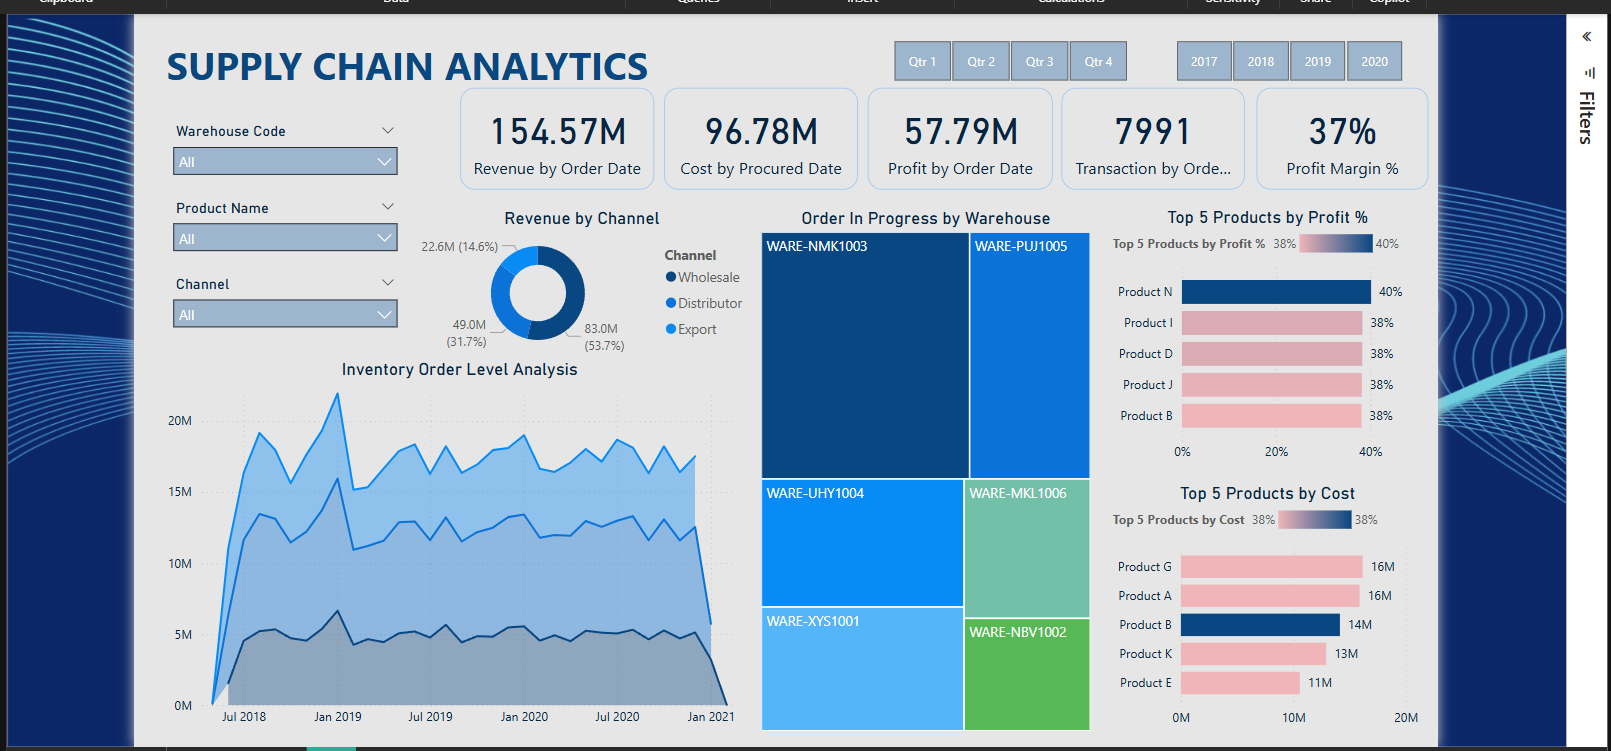

What the dashboard file says about the page in this screenshot:
{"tool":"powerbi","page":{"name":"Supply Chain ","canvas":[1280,720],"ordinal":0},"visuals":[{"type":"card","fields":{"Values":["Specific Calculation.Cost by Procured Date"]},"box":[520,72.9,190,100],"z":0},{"type":"slicer","fields":{"Values":["Dates.Year"]},"box":[998.1,20.2,271.2,52.3],"z":1000},{"type":"slicer","fields":{"Values":["Dates.Date.Variation.Date Hierarchy.Quarter"]},"box":[719.7,20.2,278.4,52.3],"z":2000},{"type":"card","fields":{"Values":["Specific Calculation.Revenue by Oder Date"]},"box":[320,72.9,190,100],"z":3000},{"type":"textbox","box":[27.4,20.2,523.4,61.9],"z":4000},{"type":"stackedAreaChart","title":"Inventory Order Level Analysis","fields":{"Category":["Dates.Date.Variation.Date Hierarchy.Year","Dates.Date.Variation.Date Hierarchy.Month"],"Y":["Specific Calculation.Revenue by Deliver Date","Specific Calculation.Inventory in Progress","Specific Calculation.Revenue by Order Date"]},"box":[28.6,338.6,582.9,370],"z":5000},{"type":"slicer","fields":{"Values":["Warehouse.Warehouse Code"]},"box":[27.7,101.3,240,71.2],"z":6000},{"type":"slicer","fields":{"Values":["Products.Product Name"]},"box":[27.7,177.3,240,68.7],"z":7000},{"type":"slicer","fields":{"Values":["Sales.Channel"]},"box":[27.7,252.1,240,68.7],"z":8000},{"type":"card","fields":{"Values":["Specific Calculation.Profit by Order Date"]},"box":[720,72.9,181.4,100],"z":9000},{"type":"card","fields":{"Values":["Specific Calculation.Profit Margin %"]},"box":[1101.4,72.9,168.6,100],"z":10000},{"type":"card","fields":{"Values":["Specific Calculation.Transaction by Order Date"]},"box":[910,72.9,180,100],"z":11000},{"type":"clusteredBarChart","title":"Top 5 Products by Profit %","fields":{"Y":["Specific Calculation.Top 5 Products by Profit %"],"Category":["Products.Product Name"]},"box":[955.8,189.3,313.8,259.4],"z":12000},{"type":"clusteredBarChart","title":"Top 5 Products by Cost","fields":{"Category":["Products.Product Name"],"Y":["Specific Calculation.Top 5 Products by Cost"]},"box":[955.8,460.4,313.8,249],"z":13000},{"type":"treemap","title":"Order In Progress by Warehouse","fields":{"Values":["Specific Calculation.Order In Progress"],"Group":["Warehouse.Warehouse Code"]},"box":[611.4,190,332.9,518.6],"z":14000},{"type":"donutChart","title":"Revenue by Channel","fields":{"Y":["Specific Calculation.Revenue by Order Date"],"Category":["Sales.Channel"]},"box":[267.1,190,344.3,148.6],"z":15000}]}

Visuals, with their boxes on the page's 1280x720 design canvas (x1, y1, x2, y2). These are canvas units, not pixel positions in the 1611x751 screenshot, which may show the page scaled, cropped or inside an application window:
card - Specific Calculation.Cost by Procured Date: x1=520 y1=73 x2=710 y2=173
slicer - Dates.Year: x1=998 y1=20 x2=1269 y2=72
slicer - Dates.Date.Variation.Date Hierarchy.Quarter: x1=720 y1=20 x2=998 y2=72
card - Specific Calculation.Revenue by Oder Date: x1=320 y1=73 x2=510 y2=173
textbox: x1=27 y1=20 x2=551 y2=82
"Inventory Order Level Analysis" stackedAreaChart: x1=29 y1=339 x2=612 y2=709
slicer - Warehouse.Warehouse Code: x1=28 y1=101 x2=268 y2=172
slicer - Products.Product Name: x1=28 y1=177 x2=268 y2=246
slicer - Sales.Channel: x1=28 y1=252 x2=268 y2=321
card - Specific Calculation.Profit by Order Date: x1=720 y1=73 x2=901 y2=173
card - Specific Calculation.Profit Margin %: x1=1101 y1=73 x2=1270 y2=173
card - Specific Calculation.Transaction by Order Date: x1=910 y1=73 x2=1090 y2=173
"Top 5 Products by Profit %" clusteredBarChart: x1=956 y1=189 x2=1270 y2=449
"Top 5 Products by Cost" clusteredBarChart: x1=956 y1=460 x2=1270 y2=709
"Order In Progress by Warehouse" treemap: x1=611 y1=190 x2=944 y2=709
"Revenue by Channel" donutChart: x1=267 y1=190 x2=611 y2=339
